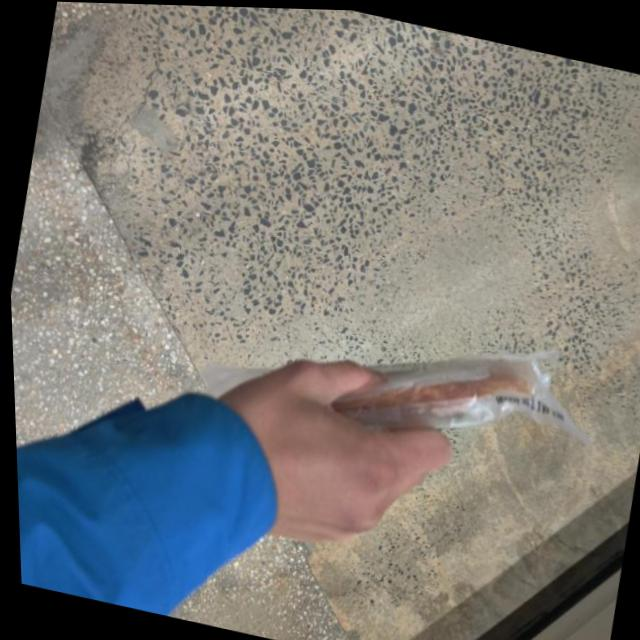Meat: (147, 255, 589, 534)
